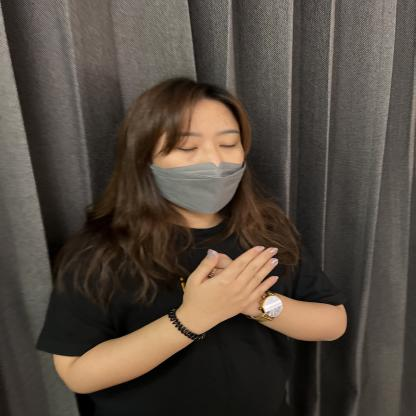Grieve: (149, 209, 358, 388)
